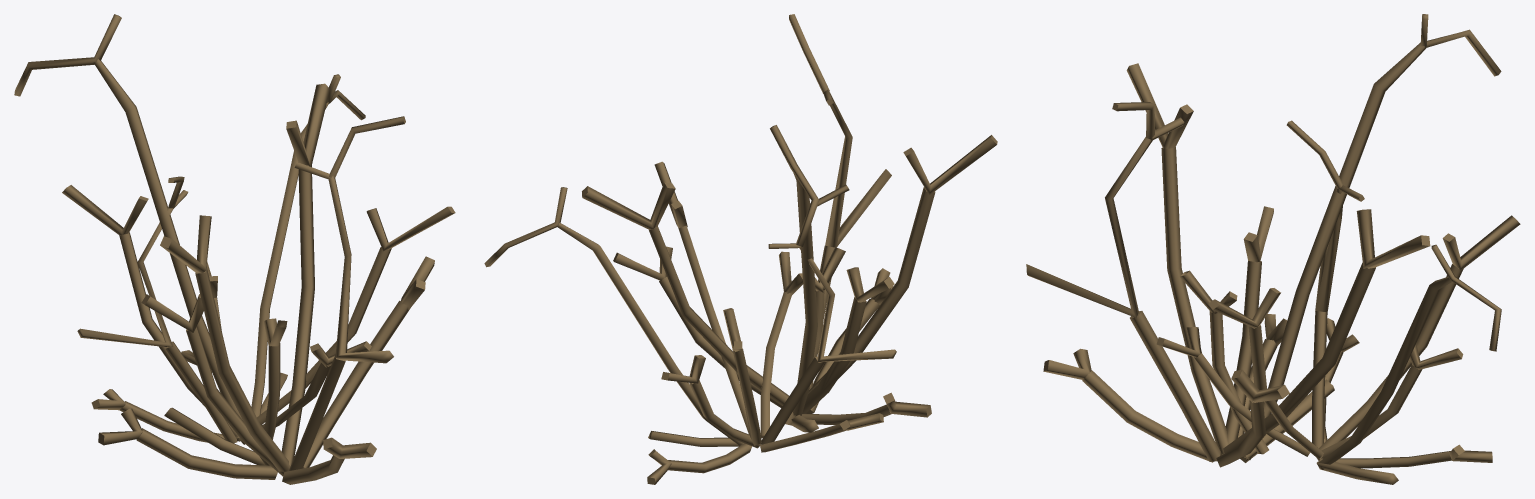
The model's file is fbx_bush_2.fbx.
3 views of the same model, side by side, from view 1: azimuth 30°, elevation 25°; view 2: azimuth 150°, elevation 25°; view 3: azimuth 270°, elevation 25° (orthographic). The views are drawn at different scales.
Visible parts, largest first — view 1: Plane.003; view 2: Plane.003; view 3: Plane.003.
Part boxes in pixels (<box>): Plane.003: <box>14,14,455,484</box>; Plane.003: <box>484,14,997,484</box>; Plane.003: <box>1026,14,1520,484</box>.
Bounding box in the file's own units: 111 × 113 × 122.
